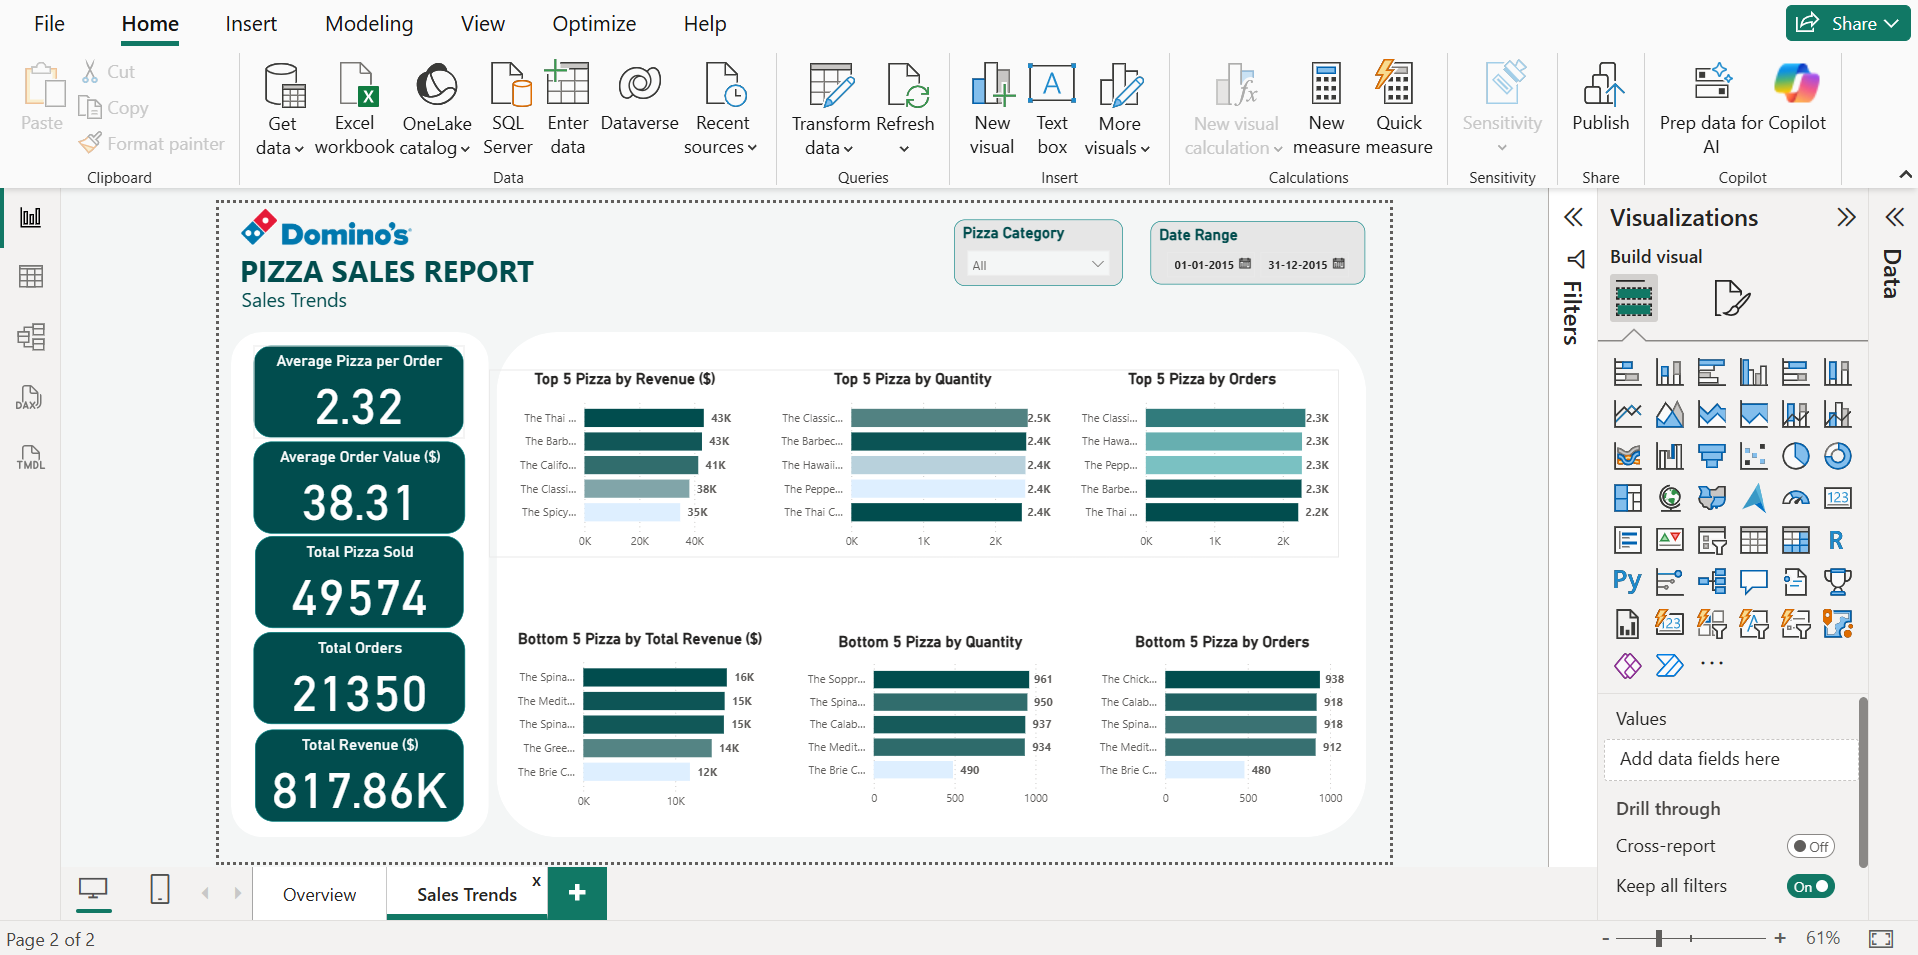

This screenshot's page, from the dashboard's own definition file:
{"tool":"powerbi","page":{"name":"Sales Trends","canvas":[1280,720],"ordinal":1},"visuals":[{"type":"shape","box":[302.8,140.9,950.5,552.2],"z":0},{"type":"slicer","title":"Date Range","fields":{"Values":["pizza_sales.order_date"]},"box":[1018.5,19.4,234.8,69.6],"z":1000},{"type":"slicer","title":"Pizza Category","fields":{"Values":["pizza_sales.pizza_category"]},"box":[803.1,17.8,184.6,72.9],"z":2000},{"type":"textbox","box":[17.8,45.3,354.6,56.7],"z":2000,"group":"g1"},{"type":"clusteredBarChart","title":"Top 5 Pizza by Total Revenue","fields":{"Y":["pizza_sales.Total Revenue"],"Category":["pizza_sales.pizza_name"]},"box":[309.3,466.1,300.3,205.7],"z":2000,"group":"g2"},{"type":"textbox","box":[19.4,84.2,218.6,51.8],"z":3000,"group":"g1"},{"type":"shape","box":[13.1,140.9,281.7,552.2],"z":3000},{"type":"card","title":"Average Pizza per Order","fields":{"Values":["pizza_sales.Average Pizzas per Order"]},"box":[38.5,156.5,229.9,100.4],"z":4000},{"type":"clusteredBarChart","title":"Bottom 5 Pizza by Quantity","fields":{"Category":["pizza_sales.pizza_name"],"Y":["Sum(pizza_sales.quantity)"]},"box":[626.4,469.3,302.8,199.2],"z":4000,"group":"g4"},{"type":"card","title":"Average Order Value ($)","fields":{"Values":["pizza_sales.Average Order Value (AOV)"]},"box":[37.7,260.2,231.5,100.4],"z":5000},{"type":"card","title":"Total Pizza Sold","fields":{"Values":["pizza_sales.Total Pizzas Sold"]},"box":[39.3,363.8,228.3,100.4],"z":6000},{"type":"clusteredBarChart","title":"Bottom 5 Pizza by Orders","fields":{"Category":["pizza_sales.pizza_name"],"Y":["pizza_sales.Total Orders"]},"box":[946,469.3,301.4,199.2],"z":6000,"group":"g4"},{"type":"card","title":"Total Orders","fields":{"Values":["pizza_sales.Total Orders"]},"box":[37.7,469,231.5,100.4],"z":7000},{"type":"card","title":"Total Revenue ($)","fields":{"Values":["pizza_sales.Total Revenue"]},"box":[39.3,575.9,228.3,100.4],"z":8000},{"type":"group","id":"g1","title":"Group 2","box":[17.8,45.3,354.6,90.7],"z":9000},{"type":"clusteredBarChart","title":"Top 5 Pizza by Revenue","fields":{"Y":["pizza_sales.Total Revenue"],"Category":["pizza_sales.pizza_name"]},"box":[294.7,181.4,296.7,205.6],"z":9000,"group":"g3"},{"type":"group","id":"g2","title":"Group 1","box":[309.3,466.1,938.1,205.7],"z":10000},{"type":"image","box":[6.5,0,220.2,51.8],"z":11000},{"type":"clusteredBarChart","title":"Top 5 Pizza by Quantity","fields":{"Category":["pizza_sales.pizza_name"],"Y":["Sum(pizza_sales.quantity)"]},"box":[596.1,181.4,323.4,205.6],"z":11000,"group":"g3"},{"type":"group","id":"g3","title":"Group 3","box":[294.7,181.4,929.4,205.6],"z":12000},{"type":"clusteredBarChart","title":"Top 5 Pizza by Orders","fields":{"Category":["pizza_sales.pizza_name"],"Y":["pizza_sales.Total Orders"]},"box":[924.3,181.4,299.9,205.6],"z":12000,"group":"g3"},{"type":"group","id":"g4","title":"Group 4","box":[626.4,469.3,621,199.2],"z":12001,"group":"g2"}]}

Visuals, with their boxes on the page's 1280x720 design canvas (x1, y1, x2, y2). These are canvas units, not pixel positions in the 1918x955 screenshot, which may show the page scaled, cropped or inside an application window:
shape: [x1=303, y1=141, x2=1253, y2=693]
"Date Range" slicer: [x1=1018, y1=19, x2=1253, y2=89]
"Pizza Category" slicer: [x1=803, y1=18, x2=988, y2=91]
textbox: [x1=18, y1=45, x2=372, y2=102]
"Top 5 Pizza by Total Revenue" clusteredBarChart: [x1=309, y1=466, x2=610, y2=672]
textbox: [x1=19, y1=84, x2=238, y2=136]
shape: [x1=13, y1=141, x2=295, y2=693]
"Average Pizza per Order" card: [x1=38, y1=156, x2=268, y2=257]
"Bottom 5 Pizza by Quantity" clusteredBarChart: [x1=626, y1=469, x2=929, y2=668]
"Average Order Value ($)" card: [x1=38, y1=260, x2=269, y2=361]
"Total Pizza Sold" card: [x1=39, y1=364, x2=268, y2=464]
"Bottom 5 Pizza by Orders" clusteredBarChart: [x1=946, y1=469, x2=1247, y2=668]
"Total Orders" card: [x1=38, y1=469, x2=269, y2=569]
"Total Revenue ($)" card: [x1=39, y1=576, x2=268, y2=676]
"Group 2" group: [x1=18, y1=45, x2=372, y2=136]
"Top 5 Pizza by Revenue" clusteredBarChart: [x1=295, y1=181, x2=591, y2=387]
"Group 1" group: [x1=309, y1=466, x2=1247, y2=672]
image: [x1=6, y1=0, x2=227, y2=52]
"Top 5 Pizza by Quantity" clusteredBarChart: [x1=596, y1=181, x2=920, y2=387]
"Group 3" group: [x1=295, y1=181, x2=1224, y2=387]
"Top 5 Pizza by Orders" clusteredBarChart: [x1=924, y1=181, x2=1224, y2=387]
"Group 4" group: [x1=626, y1=469, x2=1247, y2=668]
